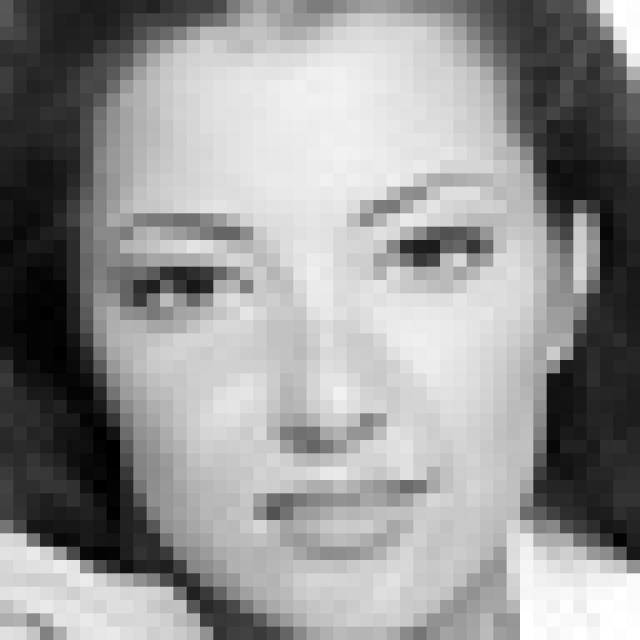neutral: (100, 171, 512, 570)
